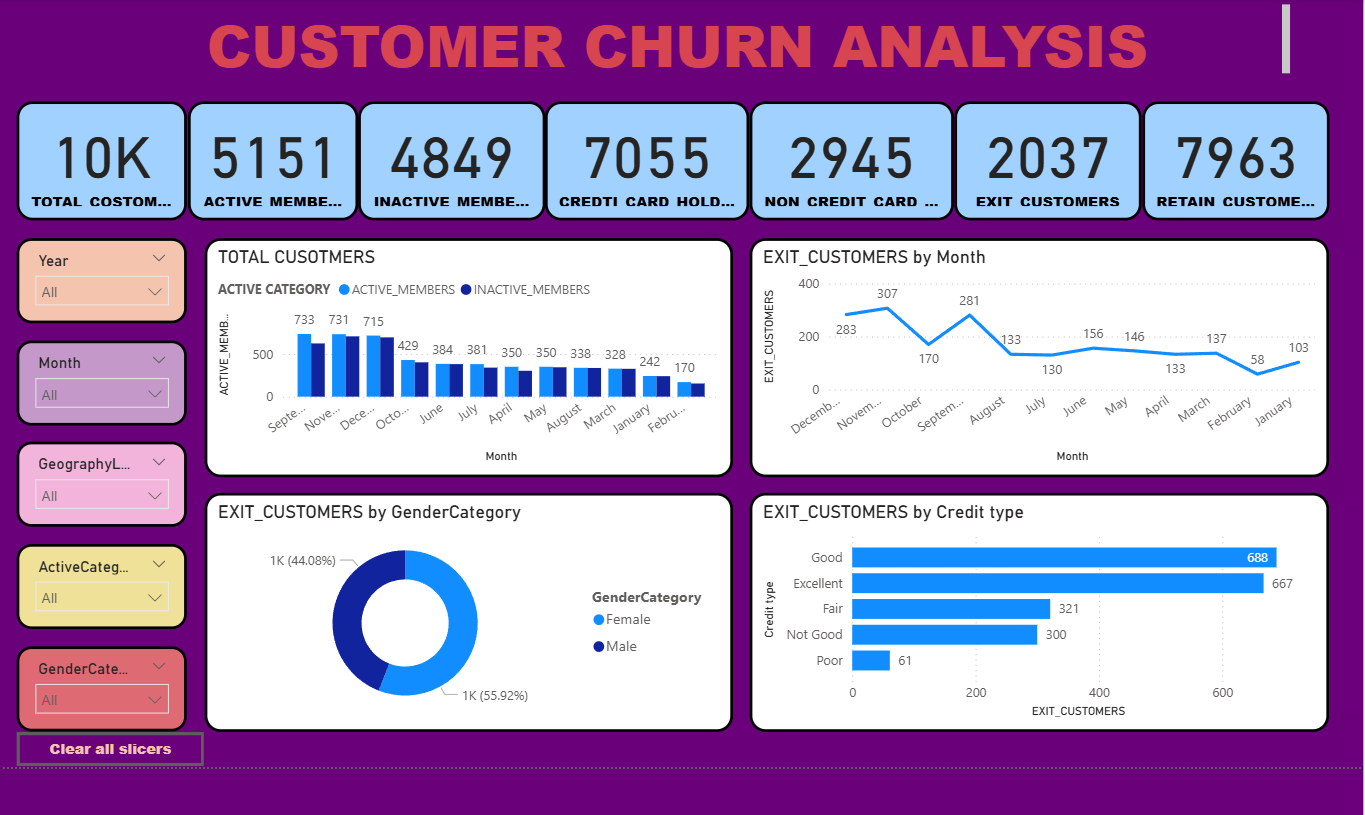

This screenshot's page, from the dashboard's own definition file:
{"tool":"powerbi","page":{"name":"DASHBOARD","canvas":[1280,720],"ordinal":0},"visuals":[{"type":"card","fields":{"Values":["MEASURE.TOTAL_COSTOMERS"]},"box":[16,96,160,112],"z":0},{"type":"card","fields":{"Values":["MEASURE.ACTIVE_MEMBERS"]},"box":[176,96,160,112],"z":1000},{"type":"card","fields":{"Values":["MEASURE.INACTIVE_MEMBERS"]},"box":[336,96,176,112],"z":2000},{"type":"card","fields":{"Values":["MEASURE.CREDTI_CARD_HOLDERS"]},"box":[512,96,192,112],"z":3000},{"type":"card","fields":{"Values":["MEASURE.NON_CREDIT_CARD_HLD"]},"box":[704,96,192,112],"z":4000},{"type":"card","fields":{"Values":["MEASURE.EXIT_CUSOTMERS"]},"box":[896,96,176,112],"z":5000},{"type":"card","fields":{"Values":["MEASURE.RETAIN_CUSTOMERS"]},"box":[1072,96,176,112],"z":6000},{"type":"textbox","box":[64,0,1152,80],"z":7000},{"type":"slicer","fields":{"Values":["Bank_Churn.Bank DOJ.Variation.Date Hierarchy.Year"]},"box":[16,224,160,80],"z":8000},{"type":"slicer","fields":{"Values":["Bank_Churn.Bank DOJ.Variation.Date Hierarchy.Month"]},"box":[16,320,160,80],"z":9000},{"type":"slicer","fields":{"Values":["Geography.GeographyLocation"]},"box":[16,416,160,80],"z":10000},{"type":"slicer","fields":{"Values":["Active customers.ActiveCategory"]},"box":[16,512,160,80],"z":11000},{"type":"slicer","fields":{"Values":["Gender.GenderCategory"]},"box":[16,608,160,80],"z":12000},{"type":"clusteredColumnChart","title":"TOTAL CUSOTMERS","fields":{"Y":["MEASURE.ACTIVE_MEMBERS","MEASURE.INACTIVE_MEMBERS"],"Category":["Bank_Churn.Bank DOJ.Variation.Date Hierarchy.Month"]},"box":[192,224,496,224],"z":13000},{"type":"lineChart","fields":{"Category":["Bank_Churn.Bank DOJ.Variation.Date Hierarchy.Month"],"Y":["MEASURE.EXIT_CUSOTMERS"]},"box":[704,224,544,224],"z":14000},{"type":"donutChart","fields":{"Y":["MEASURE.EXIT_CUSOTMERS"],"Category":["Gender.GenderCategory"]},"box":[192,464,496,224],"z":15000},{"type":"clusteredBarChart","fields":{"Category":["Bank_Churn.Credit type"],"Y":["MEASURE.EXIT_CUSOTMERS"]},"box":[704,464,544,224],"z":16000},{"type":"actionButton","box":[16,688,176,32],"z":17000}]}

Visuals, with their boxes in screenshot pixels (x1, y1, x2, y2):
card - MEASURE.TOTAL_COSTOMERS: box=[20, 101, 189, 219]
card - MEASURE.ACTIVE_MEMBERS: box=[189, 101, 357, 219]
card - MEASURE.INACTIVE_MEMBERS: box=[357, 101, 542, 219]
card - MEASURE.CREDTI_CARD_HOLDERS: box=[542, 101, 744, 219]
card - MEASURE.NON_CREDIT_CARD_HLD: box=[744, 101, 946, 219]
card - MEASURE.EXIT_CUSOTMERS: box=[946, 101, 1131, 219]
card - MEASURE.RETAIN_CUSTOMERS: box=[1131, 101, 1316, 219]
textbox: box=[71, 0, 1282, 84]
slicer - Bank_Churn.Bank DOJ.Variation.Date Hierarchy.Year: box=[20, 236, 189, 320]
slicer - Bank_Churn.Bank DOJ.Variation.Date Hierarchy.Month: box=[20, 337, 189, 421]
slicer - Geography.GeographyLocation: box=[20, 437, 189, 522]
slicer - Active customers.ActiveCategory: box=[20, 538, 189, 623]
slicer - Gender.GenderCategory: box=[20, 639, 189, 724]
"TOTAL CUSOTMERS" clusteredColumnChart: box=[205, 236, 727, 471]
lineChart - Bank_Churn.Bank DOJ.Variation.Date Hierarchy.Month x MEASURE.EXIT_CUSOTMERS: box=[744, 236, 1316, 471]
donutChart - MEASURE.EXIT_CUSOTMERS x Gender.GenderCategory: box=[205, 488, 727, 724]
clusteredBarChart - Bank_Churn.Credit type x MEASURE.EXIT_CUSOTMERS: box=[744, 488, 1316, 724]
actionButton: box=[20, 724, 205, 757]
